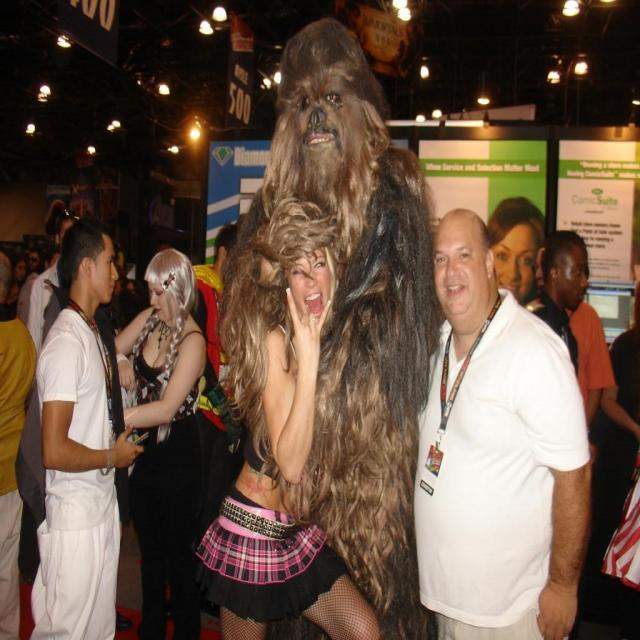nomask: (433, 224, 487, 316), (491, 219, 539, 306), (288, 247, 332, 328), (556, 245, 590, 310), (90, 239, 118, 303), (148, 276, 176, 322), (59, 219, 77, 251), (14, 259, 26, 281), (28, 252, 40, 272), (110, 273, 120, 292), (126, 283, 135, 302)
